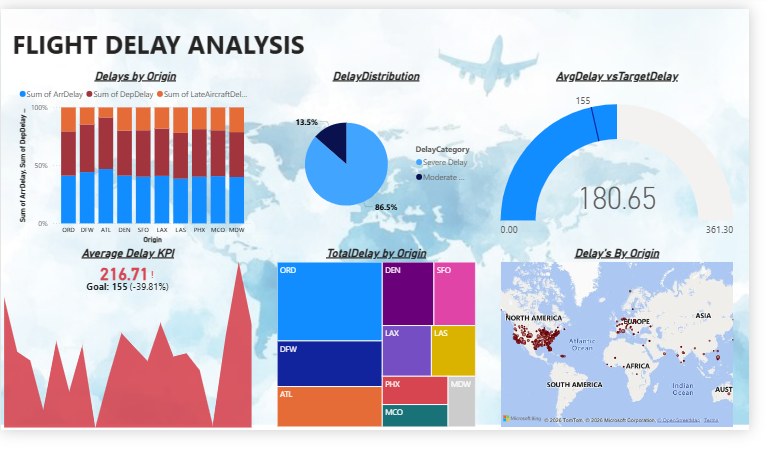

The page's visual inventory and layout, read from the dashboard file:
{"tool":"powerbi","page":{"name":"Page 2","canvas":[1280,720],"ordinal":1},"visuals":[{"type":"hundredPercentStackedColumnChart","title":"Delays by Origin ","fields":{"Category":["cleaned_data.Origin"],"Y":["Sum(cleaned_data.ArrDelay)","Sum(cleaned_data.DepDelay)","Sum(cleaned_data.LateAircraftDelay)"]},"box":[25.6,102.6,407.7,302.6],"z":0},{"type":"pieChart","title":"DelayDistribution","fields":{"Category":["cleaned_data.DelayCategory"],"Y":["CountNonNull(cleaned_data.TotalDelay)"]},"box":[466.7,102.6,348.7,302.6],"z":1},{"type":"gauge","title":"AvgDelay vsTargetDelay","fields":{"Y":["cleaned_data.AvgDelay"],"TargetValue":["cleaned_data.TargetDelay"]},"box":[848.7,102.6,407.7,302.6],"z":2},{"type":"kpi","title":"Average Delay KPI","fields":{"Indicator":["cleaned_data.AvgDelay"],"Goal":["cleaned_data.TargetDelay"],"TrendLine":["cleaned_data.Distance"]},"box":[0,405.1,433.3,315.4],"z":3},{"type":"treemap","title":"TotalDelay by Origin","fields":{"Group":["cleaned_data.Origin"],"Values":["Sum(cleaned_data.TotalDelay)"]},"box":[467,406,349,314],"z":4},{"type":"map","title":"Delay''s By Origin","fields":{"Category":["cleaned_data.Origin"],"Size":["Sum(cleaned_data.TotalDelay)"]},"box":[849,406,408,314],"z":5}]}

Visuals, with their boxes on the page's 1280x720 design canvas (x1, y1, x2, y2). These are canvas units, not pixel positions in the 766x461 screenshot, which may show the page scaled, cropped or inside an application window:
"Delays by Origin " hundredPercentStackedColumnChart: crop(26, 103, 433, 405)
"DelayDistribution" pieChart: crop(467, 103, 815, 405)
"AvgDelay vsTargetDelay" gauge: crop(849, 103, 1256, 405)
"Average Delay KPI" kpi: crop(0, 405, 433, 720)
"TotalDelay by Origin" treemap: crop(467, 406, 816, 720)
"Delay''s By Origin" map: crop(849, 406, 1257, 720)
